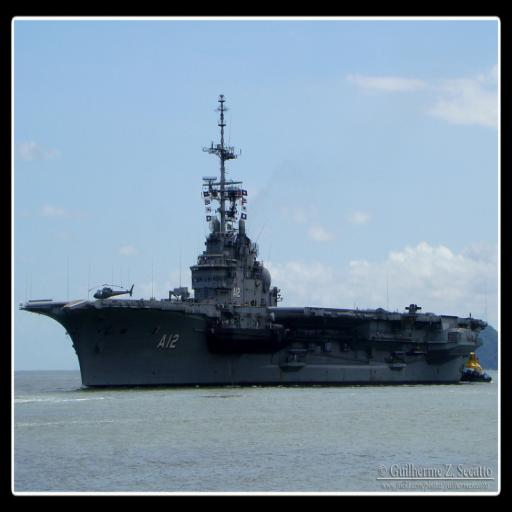Portanaves: (20, 92, 490, 399)
